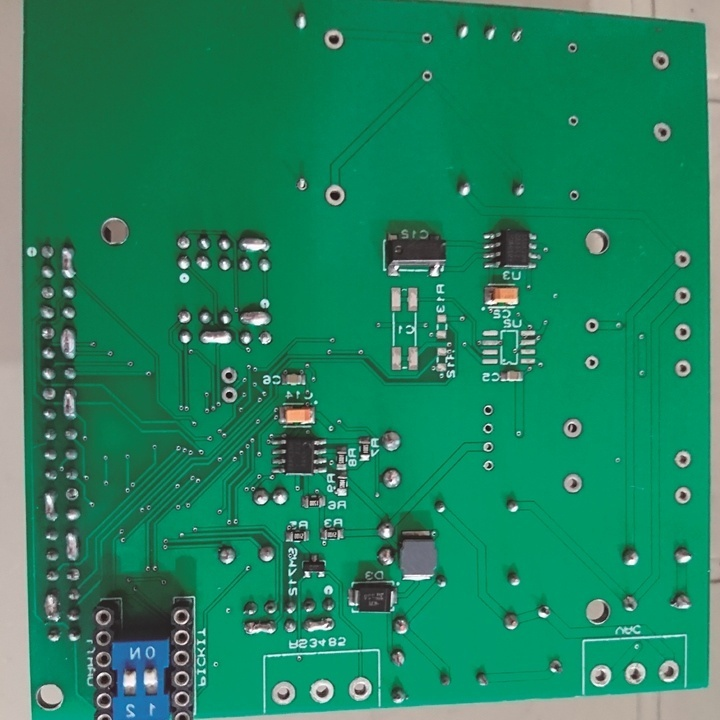F: (347, 675, 375, 703), (308, 678, 336, 705), (268, 678, 296, 705), (561, 415, 587, 443), (656, 657, 681, 686), (622, 660, 648, 686), (587, 664, 613, 689), (650, 50, 675, 75), (650, 120, 676, 144), (561, 472, 584, 495), (324, 183, 346, 207), (672, 449, 694, 471), (671, 319, 691, 343), (323, 29, 345, 50), (673, 284, 693, 307), (219, 364, 239, 385), (673, 249, 694, 269), (674, 484, 693, 506), (582, 353, 601, 374), (221, 385, 240, 405), (673, 357, 690, 379), (37, 241, 55, 261), (175, 307, 193, 326), (41, 385, 59, 404), (38, 323, 57, 341), (173, 233, 191, 251), (38, 283, 56, 301), (510, 26, 525, 46), (293, 175, 310, 192), (584, 318, 601, 335), (421, 29, 436, 48), (258, 330, 274, 347), (64, 486, 80, 503), (566, 186, 581, 203), (421, 69, 435, 86), (567, 112, 581, 129), (567, 39, 580, 57), (483, 420, 496, 438), (481, 457, 494, 475), (482, 402, 495, 418), (482, 439, 494, 454)
P: (236, 234, 272, 254), (59, 323, 77, 360), (42, 589, 61, 624), (241, 618, 276, 637), (59, 246, 77, 281), (301, 617, 338, 634), (239, 308, 273, 326), (61, 386, 79, 420), (42, 487, 59, 523), (199, 328, 232, 346), (64, 531, 81, 563)
